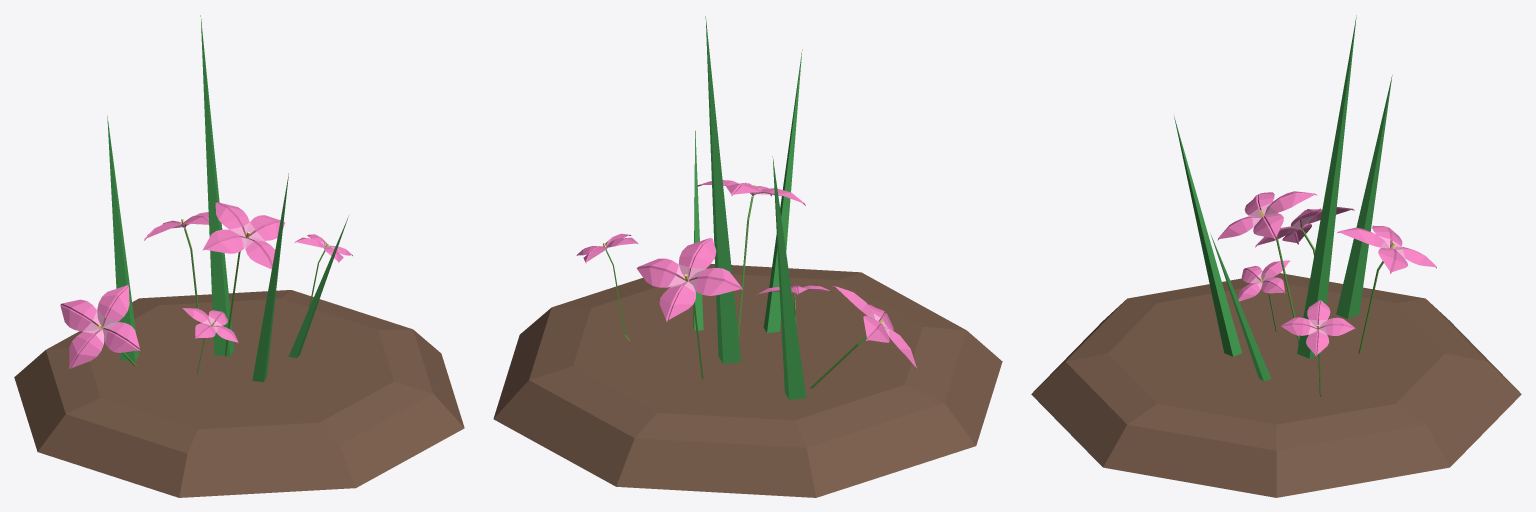
The model's file is plants-type-005.obj.
The picture shows the model from 3 angles, left to right: view 1: azimuth 30°, elevation 25°; view 2: azimuth 150°, elevation 25°; view 3: azimuth 270°, elevation 25°; orthographic projection. The views are drawn at different scales.
Parts seen in each view (by area): view 1: plants-type-005; view 2: plants-type-005; view 3: plants-type-005.
Part boxes in pixels (box(x1,y1,x2,y2)): plants-type-005: box(14, 15, 464, 497); plants-type-005: box(493, 16, 1002, 497); plants-type-005: box(1031, 15, 1521, 497).
Bounding box in the file's own units: 0.3593 × 0.3069 × 0.3593.
